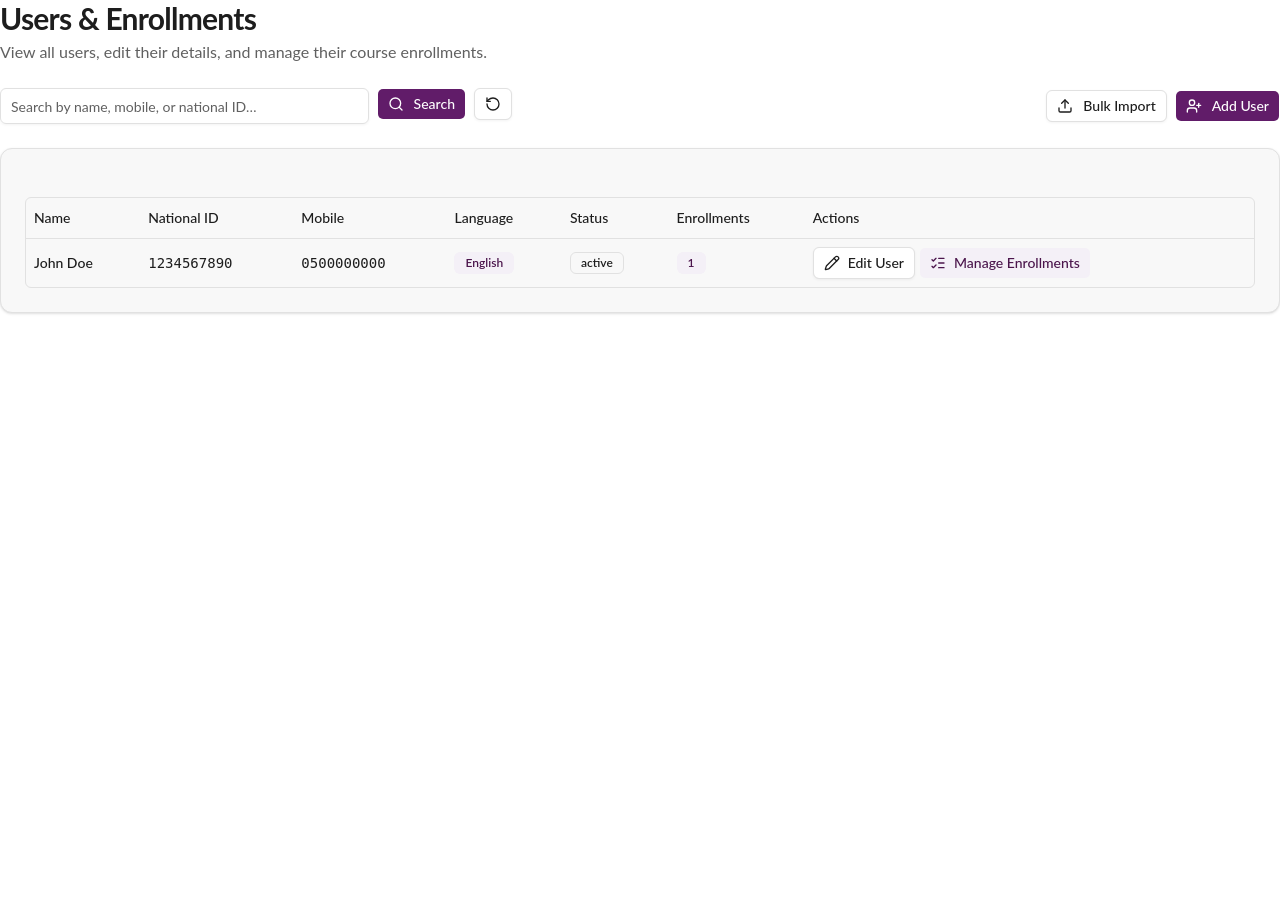
Test: Enrollments Page › handles bulk import dialog open and close
Click the button "Bulk Import" at (1107,106), box [1046,90,1167,122]
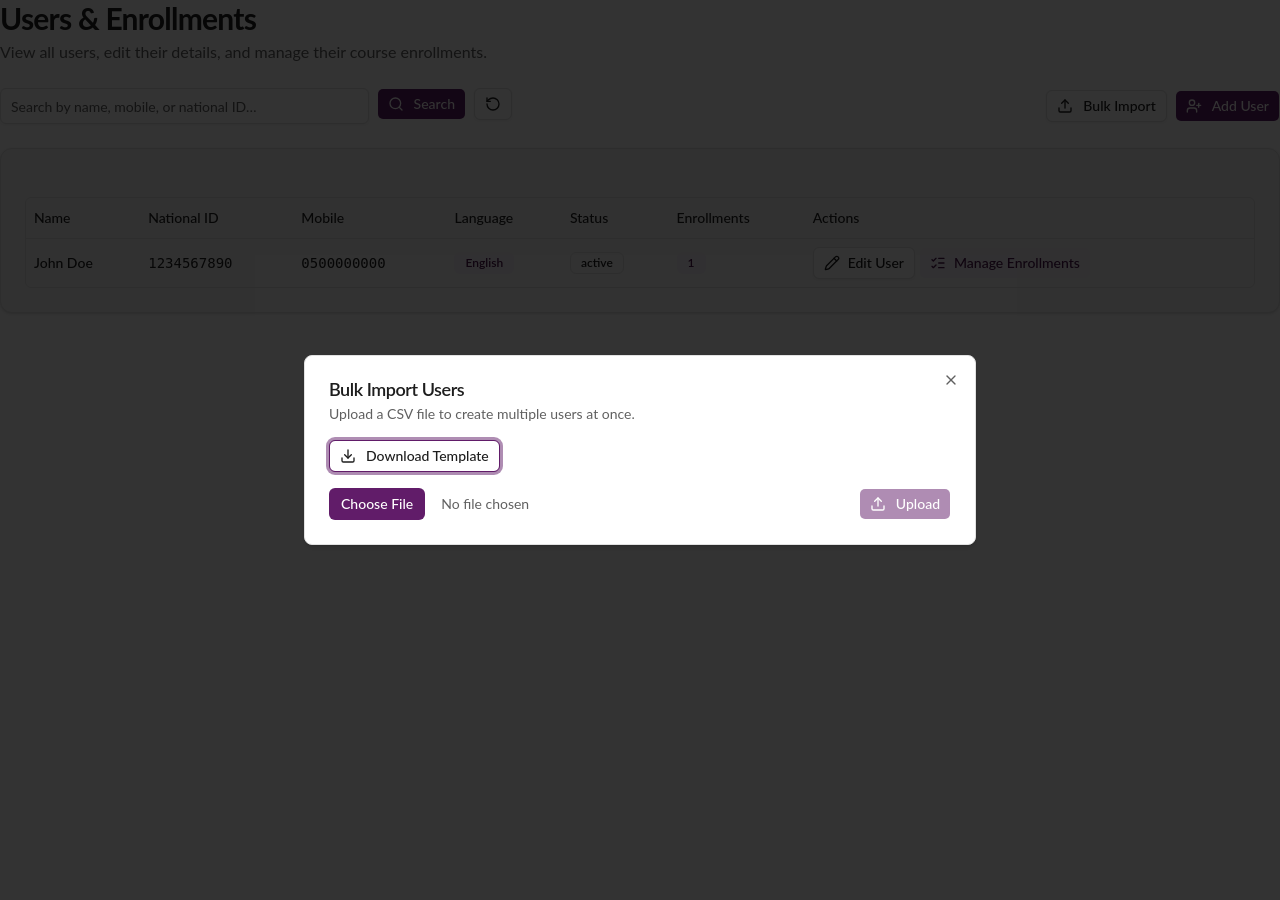
Now the heading "Bulk Import Users" is shown, box [329,378,464,400]
